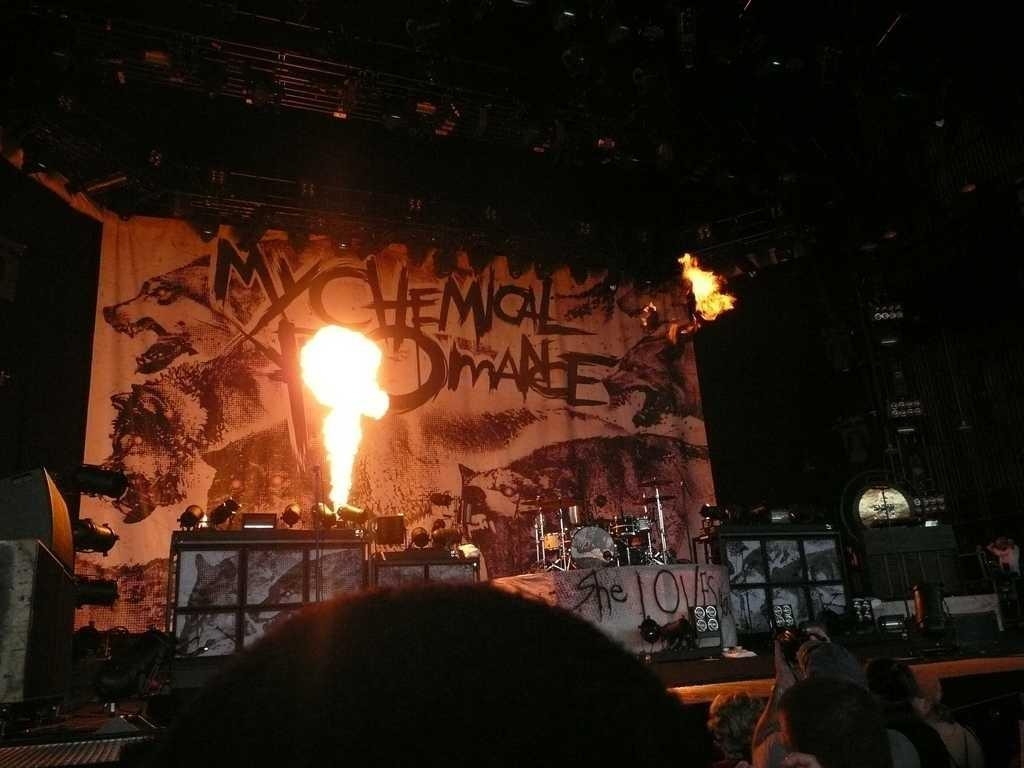fire: (301, 321, 403, 510)
